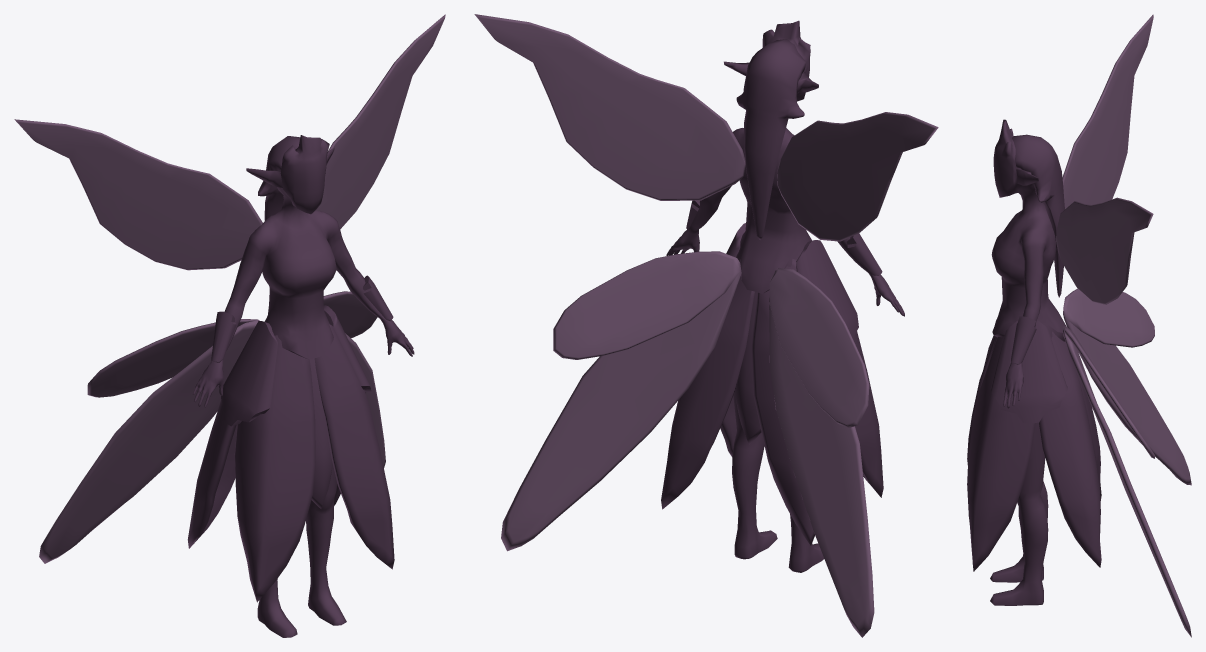
File: M_Fairy_TH.fbx
3 views of the same model, side by side, from view 1: azimuth 30°, elevation 25°; view 2: azimuth 150°, elevation 25°; view 3: azimuth 270°, elevation 25° (orthographic). The views are drawn at different scales.
Visible parts, largest first — view 1: body1, wings3; view 2: wings3, body1; view 3: body1, wings3.
Part boxes in pixels (x1,y1,x2,y2): body1: (187,135,414,637); wings3: (14,14,445,563); wings3: (474,14,938,637); body1: (661,20,904,572); body1: (967,119,1101,605); wings3: (1056,14,1191,637).
Size of the model in its own units: 53.79 by 59.85 by 25.57.
